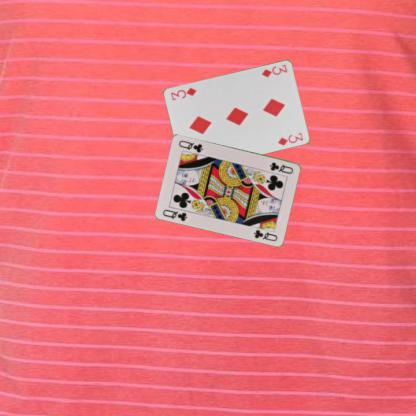3d: (260, 62, 288, 79)
Qc: (267, 160, 295, 175), (161, 207, 189, 222)
